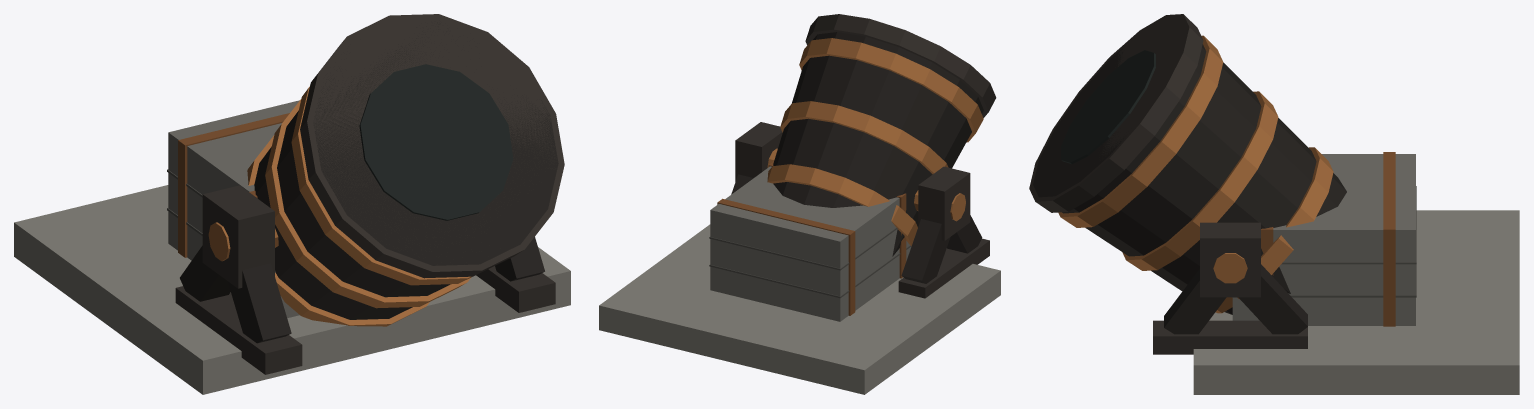
File: cannon.glb
3 renders of one model, left to right at view 1: azimuth 30°, elevation 25°; view 2: azimuth 150°, elevation 25°; view 3: azimuth 270°, elevation 25°, orthographic. The views are drawn at different scales.
Visible parts, largest first — view 1: cannon.001; view 2: cannon.001; view 3: cannon.001.
Boxes of the visible parts, x1,y1,x2,y2 form: cannon.001: (14, 14, 570, 394); cannon.001: (599, 14, 1000, 394); cannon.001: (1029, 14, 1519, 394).
Size of the model in its own units: 9 by 7.89 by 12.04.
